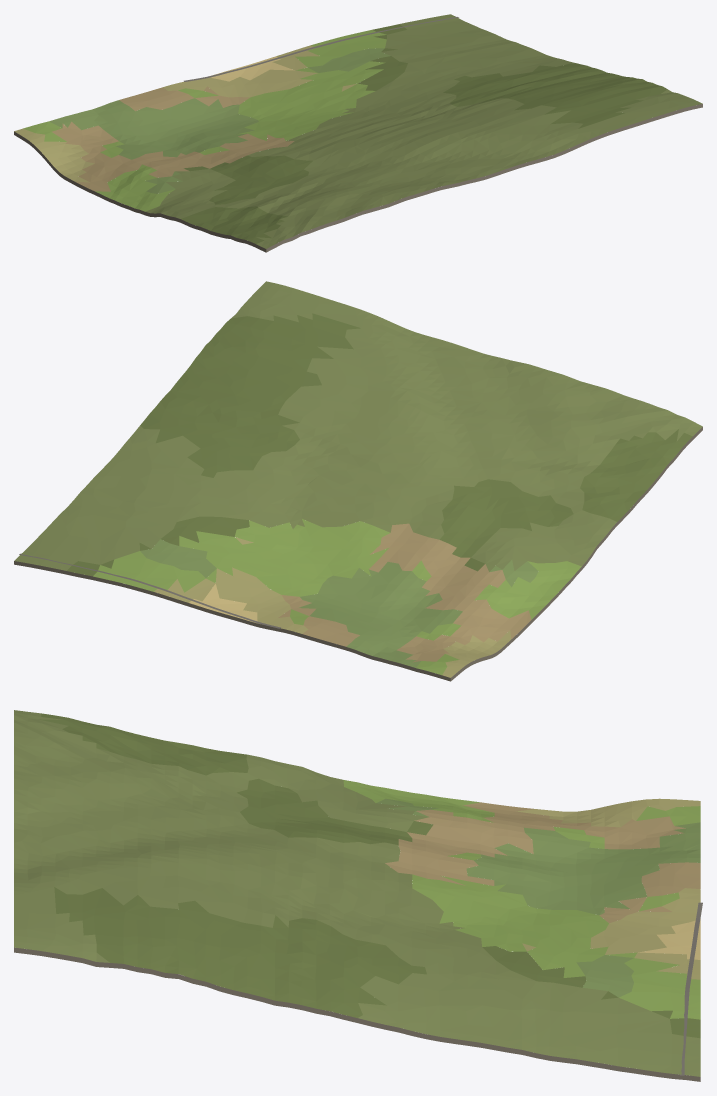
Rendered from parca_+7_-3-uzak.glb.
The picture shows the model from 3 angles, top to bottom: view 1: azimuth 30°, elevation 25°; view 2: azimuth 150°, elevation 25°; view 3: azimuth 270°, elevation 25°; orthographic projection. The views are drawn at different scales.
Visible parts, largest first — view 1: parca_+7_-3_arazi_uzak, parca_+7_-3_yollar_uzak; view 2: parca_+7_-3_arazi_uzak; view 3: parca_+7_-3_arazi_uzak, parca_+7_-3_yollar_uzak.
Part boxes in pixels (left/top/right/bottom): parca_+7_-3_arazi_uzak: left=14, top=14, right=702, bottom=252; parca_+7_-3_yollar_uzak: left=184, top=17, right=458, bottom=81; parca_+7_-3_arazi_uzak: left=14, top=281, right=702, bottom=681; parca_+7_-3_arazi_uzak: left=14, top=710, right=700, bottom=1081; parca_+7_-3_yollar_uzak: left=680, top=902, right=702, bottom=1075.
Size of the model in its own units: 1002 by 257 by 1003.
